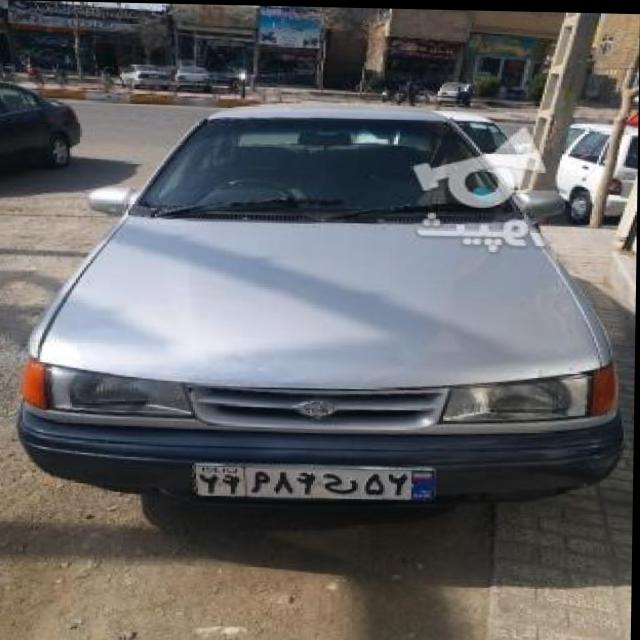licence: (195, 462, 438, 498)
